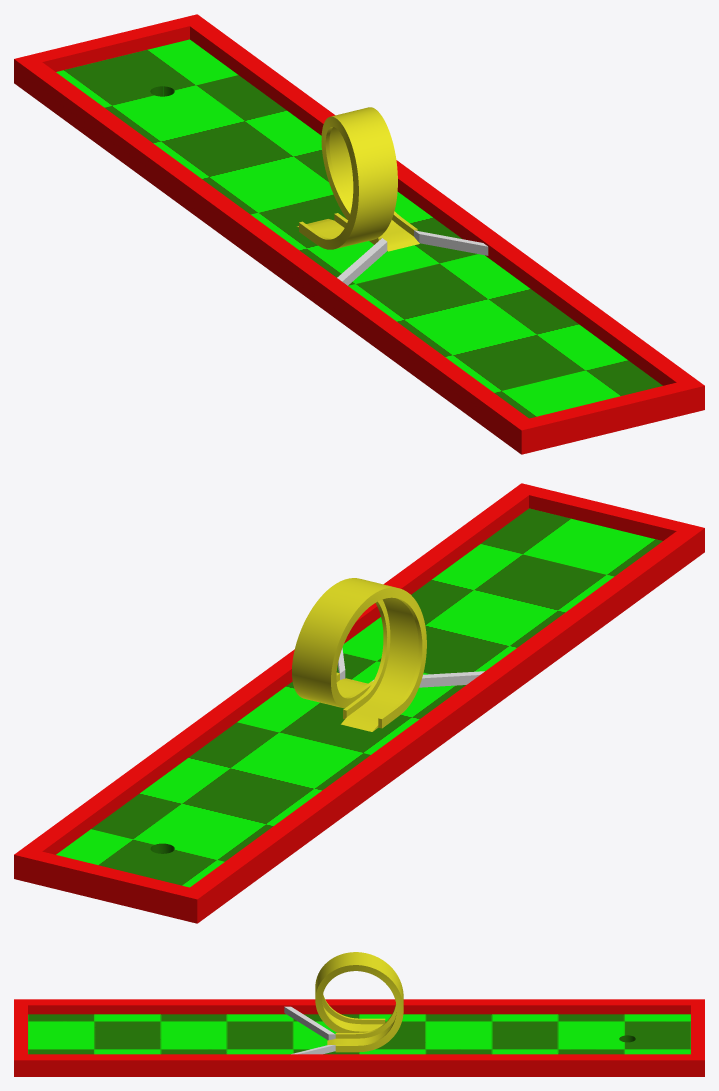
Rendered from Track1.fbx.
The picture shows the model from 3 angles, top to bottom: view 1: azimuth 30°, elevation 25°; view 2: azimuth 150°, elevation 25°; view 3: azimuth 270°, elevation 25°; orthographic projection. The views are drawn at different scales.
Visible parts, largest first — view 1: Track1_Track, Track1_Boundary, Track1_Looping, Track1_Narrowing; view 2: Track1_Track, Track1_Boundary, Track1_Looping, Track1_Narrowing; view 3: Track1_Boundary, Track1_Track, Track1_Looping, Track1_Narrowing.
Boxes of the visible parts, x1,y1,x2,y2 form: Track1_Track: (56,39,662,418); Track1_Boundary: (14,14,704,454); Track1_Looping: (297,107,419,251); Track1_Narrowing: (337,230,488,285); Track1_Track: (56,508,662,887); Track1_Boundary: (14,483,704,923); Track1_Looping: (292,578,426,731); Track1_Narrowing: (338,648,484,687); Track1_Boundary: (14,999,704,1076); Track1_Track: (28,1014,690,1054); Track1_Looping: (315,952,403,1052); Track1_Narrowing: (284,1006,335,1054).
Bounding box in the file's own units: 87 × 58.49 × 417.
